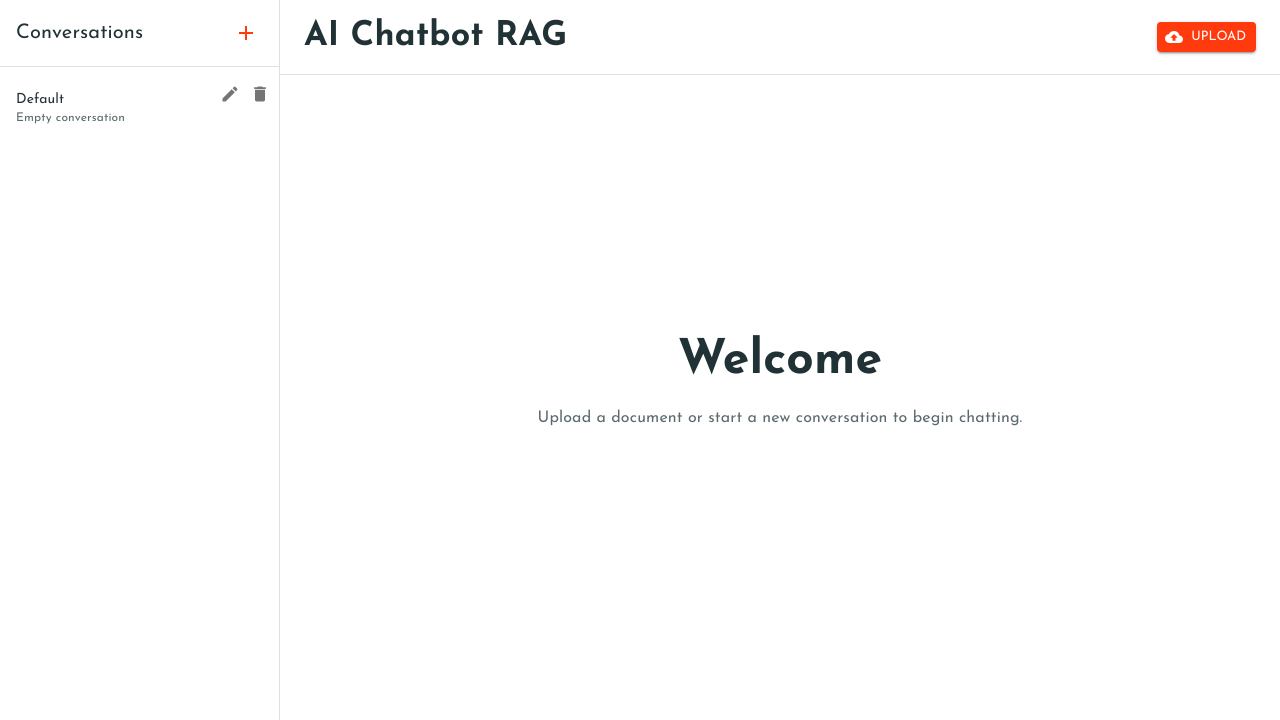
Home page › renders ChatWindow when a conversation is active
Expected: the heading "AI Chatbot RAG" is shown, [304,16,567,58]
Click the button named "New conversation".
click(246, 33)  # box [229,16,263,50]
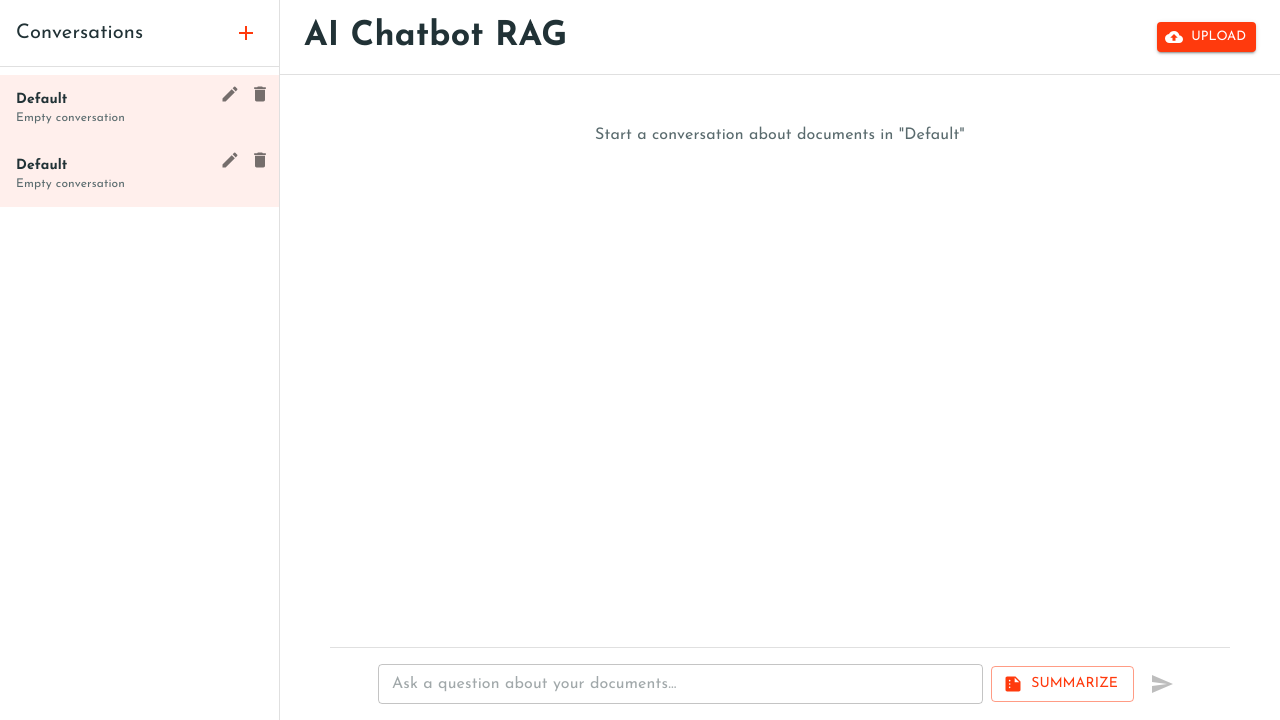
Result: the field with placeholder "Ask a question about your documents..." is shown at [378,664,983,704]
